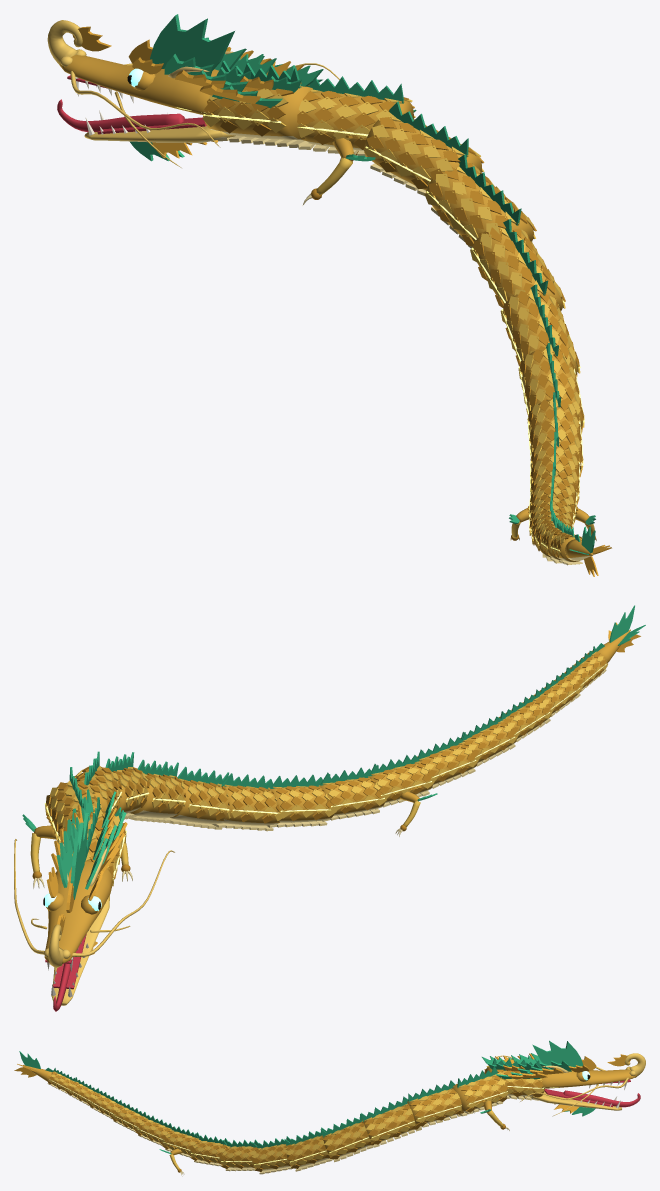
The model's file is rongly.glb.
The picture shows the model from 3 angles, top to bottom: view 1: azimuth 30°, elevation 25°; view 2: azimuth 150°, elevation 25°; view 3: azimuth 270°, elevation 25°; orthographic projection. The views are drawn at different scales.
Parts seen in each view (by area): view 1: HEAD, SEG, POSE_SEG_01, POSE_SEG_03, POSE_SEG_00, POSE_SEG_04, JAW, POSE_SEG_05, POSE_SEG_06, POSE_SEG_07, MANE, POSE_SEG_08 (+4 smaller); view 2: HEAD, POSE_SEG_06, POSE_SEG_05, POSE_SEG_07, POSE_SEG_08, POSE_SEG_04, POSE_SEG_09, POSE_SEG_10, JAW, POSE_SEG_01, POSE_SEG_11, POSE_SEG_03 (+8 smaller); view 3: HEAD, POSE_SEG_03, SEG, POSE_SEG_01, POSE_SEG_04, JAW, POSE_SEG_05, POSE_SEG_06, POSE_SEG_00, POSE_SEG_07, POSE_SEG_08, POSE_SEG_09 (+8 smaller).
Boxes of the visible parts, x1,y1,x2,y2 form: HEAD: (47,14,339,167); SEG: (364,101,484,195); POSE_SEG_01: (296,76,415,156); POSE_SEG_03: (424,154,536,248); POSE_SEG_00: (202,60,312,147); POSE_SEG_04: (470,219,565,310); JAW: (57,99,235,161); POSE_SEG_05: (500,284,580,377); POSE_SEG_06: (518,343,584,433); POSE_SEG_07: (527,392,583,476); MANE: (216,54,323,92); POSE_SEG_08: (530,432,580,506); HEAD: (14,808,174,971); POSE_SEG_06: (212,773,282,831); POSE_SEG_05: (163,766,230,829); POSE_SEG_07: (267,774,336,827); POSE_SEG_08: (320,765,386,821); POSE_SEG_04: (129,759,185,823); POSE_SEG_09: (369,750,434,809); POSE_SEG_10: (417,732,478,791); JAW: (51,895,109,1011); POSE_SEG_01: (44,767,102,843); POSE_SEG_11: (460,711,517,769); POSE_SEG_03: (105,752,149,819); HEAD: (495,1040,645,1116); POSE_SEG_03: (361,1096,421,1147); SEG: (407,1080,463,1129); POSE_SEG_01: (452,1066,508,1116); POSE_SEG_04: (320,1113,379,1162); JAW: (530,1089,640,1116); POSE_SEG_05: (284,1127,334,1171); POSE_SEG_06: (251,1136,299,1174); POSE_SEG_00: (484,1058,544,1100); POSE_SEG_07: (219,1139,259,1171); POSE_SEG_08: (190,1133,228,1166); POSE_SEG_09: (162,1123,203,1157).
Size of the model in its own units: 62.57 by 50.6 by 223.
